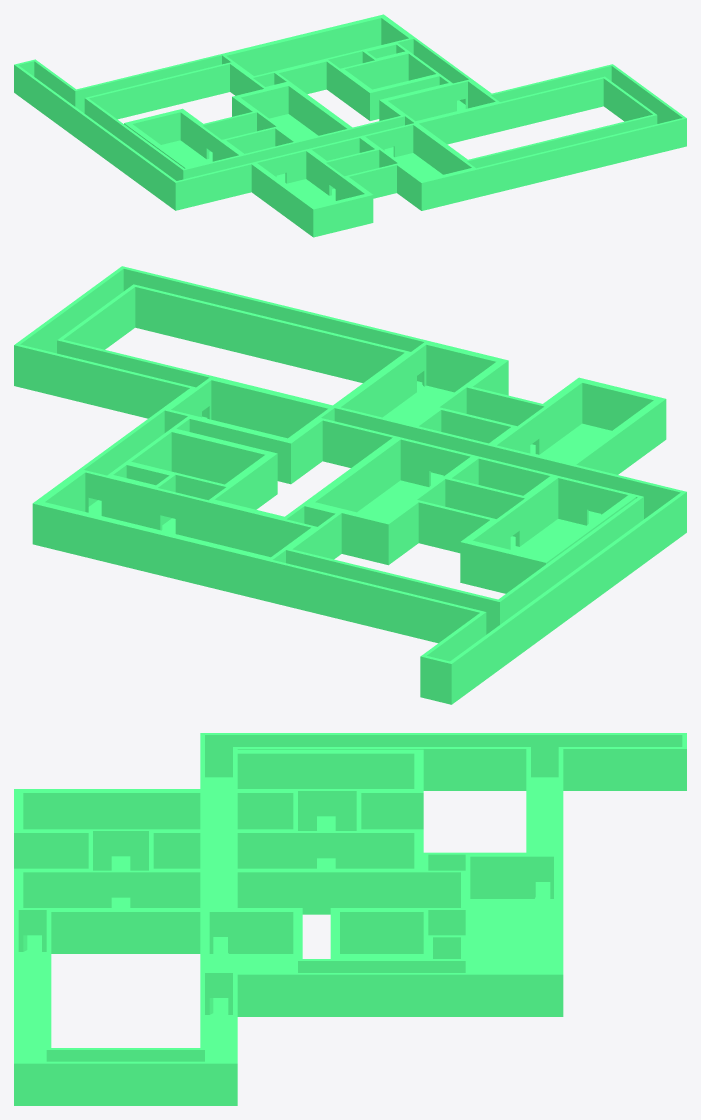
The model's file is F2_Greybox.fbx.
3 renders of one model, top to bottom at view 1: azimuth 30°, elevation 25°; view 2: azimuth 150°, elevation 25°; view 3: azimuth 270°, elevation 25°, orthographic. The views are drawn at different scales.
Parts seen in each view (by area): view 1: Floor_2; view 2: Floor_2; view 3: Floor_2.
Boxes of the visible parts, bbox=[...] form: Floor_2: bbox=[14, 14, 686, 237]; Floor_2: bbox=[14, 266, 686, 704]; Floor_2: bbox=[14, 733, 686, 1105].
Size of the model in its own units: 8399 by 500 by 7227.
